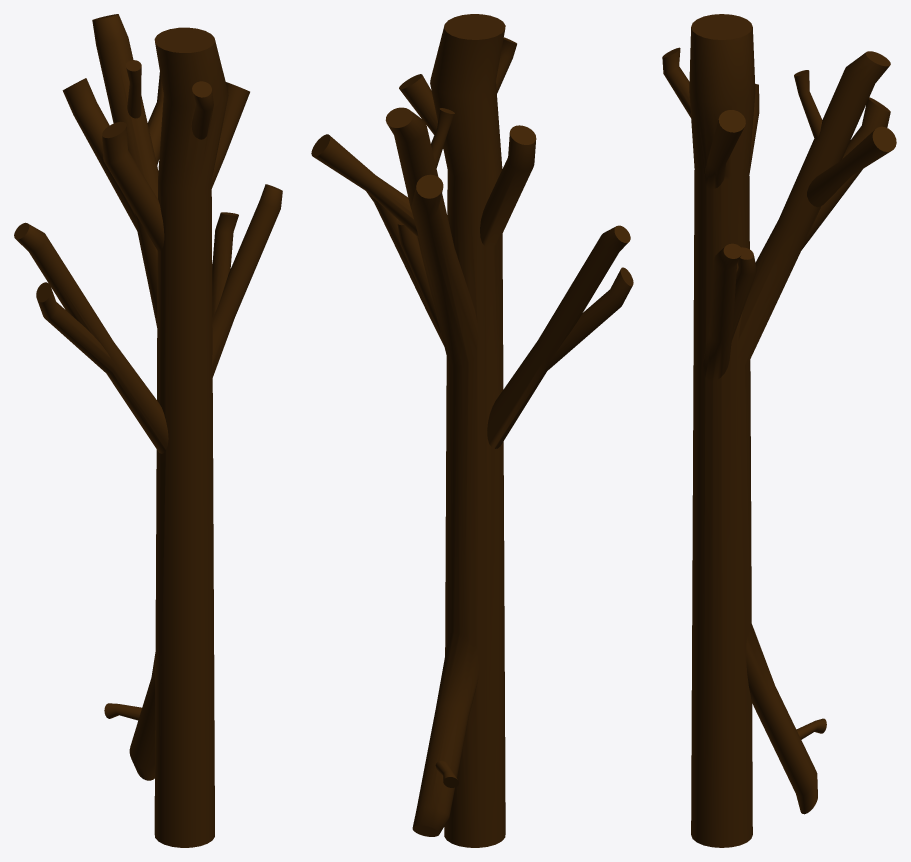
The model's file is 48_Stick1.fbx.
3 views of the same model, side by side, from view 1: azimuth 30°, elevation 25°; view 2: azimuth 150°, elevation 25°; view 3: azimuth 270°, elevation 25° (orthographic).
Visible parts, largest first — view 1: pCylinder170; view 2: pCylinder170; view 3: pCylinder170.
Boxes of the visible parts, left/top/right/bottom form: pCylinder170: left=14, top=14, right=282, bottom=847; pCylinder170: left=311, top=14, right=633, bottom=847; pCylinder170: left=662, top=14, right=896, bottom=847.
Size of the model in its own units: 0.5956 by 1.73 by 0.4534.
